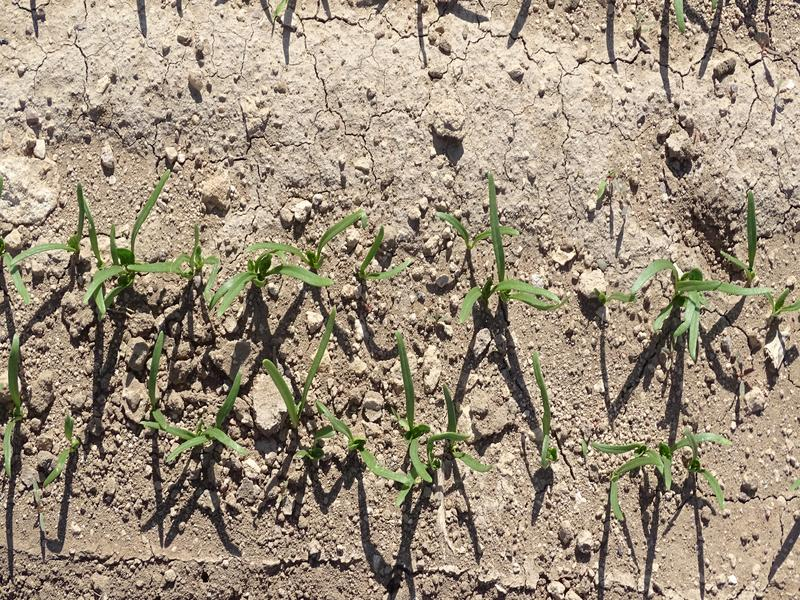Espinaca: (266, 334, 488, 501), (45, 206, 400, 306), (627, 194, 766, 349), (442, 192, 556, 328), (595, 419, 744, 518), (151, 370, 250, 457), (1, 339, 31, 468), (529, 355, 555, 461), (41, 411, 76, 489)
